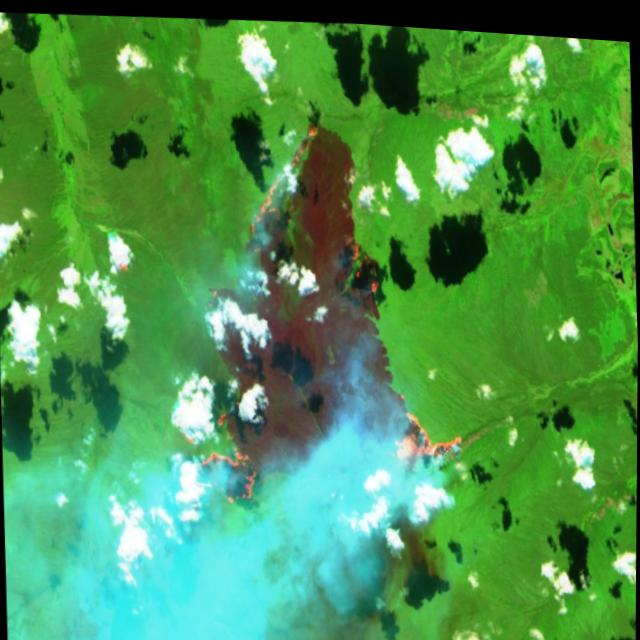fire: (173, 97, 473, 532)
